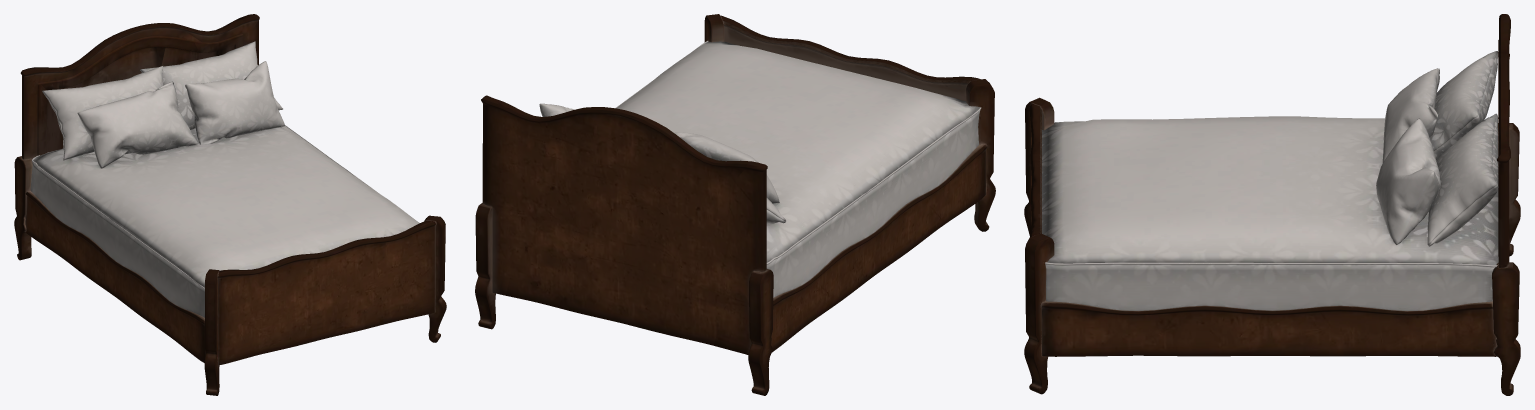
File: bed.glb
3 renders of one model, left to right at view 1: azimuth 30°, elevation 25°; view 2: azimuth 150°, elevation 25°; view 3: azimuth 270°, elevation 25°, orthographic. The views are drawn at different scales.
Parts seen in each view (by area): view 1: victorian_bed_wood_bed_wood_material_0, victorian_bed_mattres_bed_mattres_material_0, pollows_bed_pillow_material_0; view 2: victorian_bed_wood_bed_wood_material_0, victorian_bed_mattres_bed_mattres_material_0, pollows_bed_pillow_material_0; view 3: victorian_bed_mattres_bed_mattres_material_0, victorian_bed_wood_bed_wood_material_0, pollows_bed_pillow_material_0.
Part boxes in pixels (<box>): victorian_bed_wood_bed_wood_material_0: <box>14,14,446,395</box>; victorian_bed_mattres_bed_mattres_material_0: <box>30,125,419,317</box>; pollows_bed_pillow_material_0: <box>42,41,284,168</box>; victorian_bed_wood_bed_wood_material_0: <box>475,14,995,395</box>; victorian_bed_mattres_bed_mattres_material_0: <box>615,40,981,297</box>; pollows_bed_pillow_material_0: <box>539,103,785,223</box>; victorian_bed_mattres_bed_mattres_material_0: <box>1042,116,1498,311</box>; victorian_bed_wood_bed_wood_material_0: <box>1024,14,1520,395</box>; pollows_bed_pillow_material_0: <box>1376,51,1498,246</box>.
Size of the model in its own units: 2.13 by 1.73 by 3.01.
Materials: 3 (3 with a texture image).
